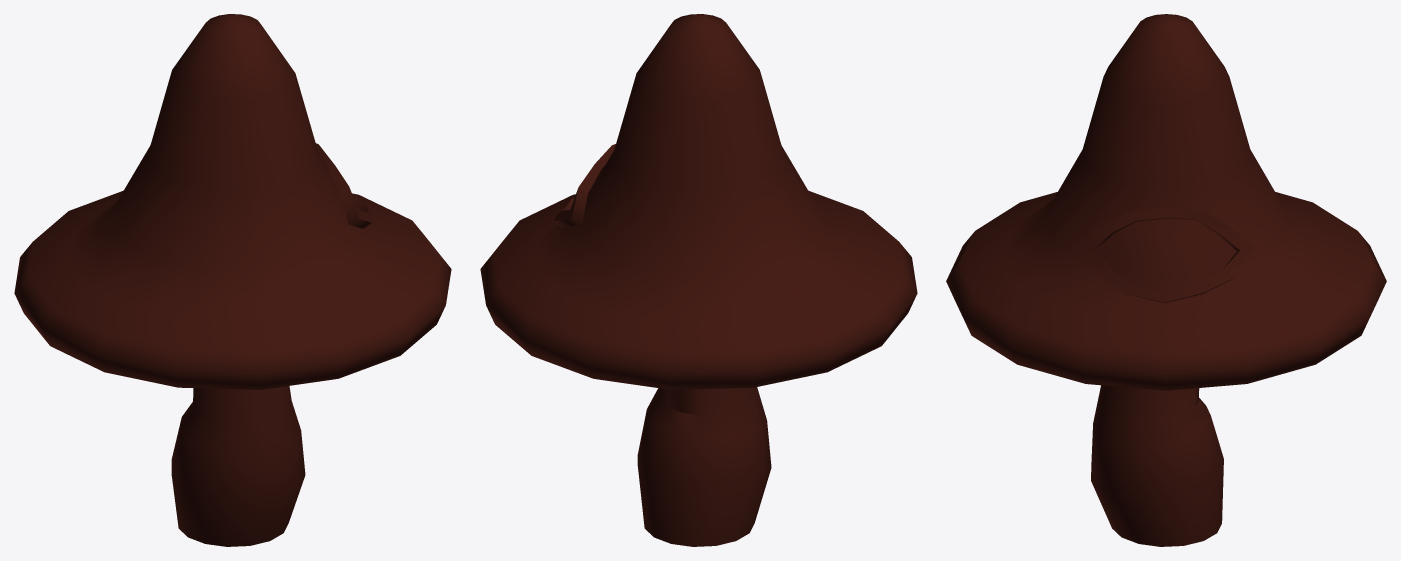
Rendered from grzyb_1.2.obj.
3 renders of one model, left to right at view 1: azimuth 30°, elevation 25°; view 2: azimuth 150°, elevation 25°; view 3: azimuth 270°, elevation 25°, orthographic.
Visible parts, largest first — view 1: Circle.003; view 2: Circle.003; view 3: Circle.003.
Boxes of the visible parts, x1,y1,x2,y2 form: Circle.003: (14, 14, 451, 546); Circle.003: (480, 14, 917, 546); Circle.003: (946, 14, 1386, 546).
Bounding box in the file's own units: 3.19 × 4.06 × 3.19.
